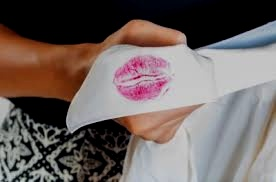lipstick: (113, 59, 174, 100)
